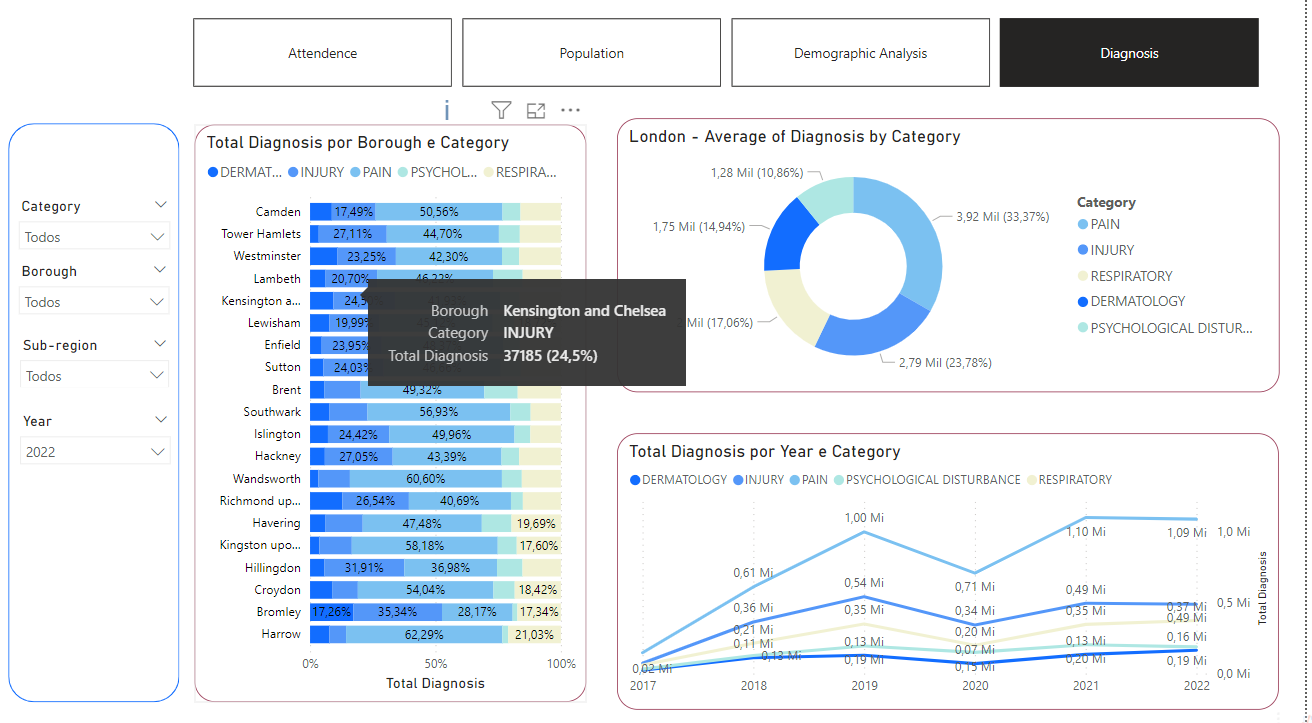

The page's visual inventory and layout, read from the dashboard file:
{"tool":"powerbi","page":{"name":"Diagnosis","canvas":[1280,720],"ordinal":3},"visuals":[{"type":"shape","box":[11.3,133.8,167.5,566.2],"z":0,"group":"g1"},{"type":"group","id":"g1","title":"Grupo 1","box":[11.2,133.8,168.2,566.2],"z":0},{"type":"slicer","fields":{"Values":["d_date.Date.Variation.Date Hierarchy.Year"]},"box":[12.2,411.2,167.3,57.5],"z":500},{"type":"hundredPercentStackedBarChart","fields":{"Category":["d_hospitals.Borough"],"Y":["Measure.Total Diagnosis"],"Series":["d_diagnosis.SubCategory"]},"box":[193.4,134.2,383.3,564.5],"z":1000},{"type":"slicer","fields":{"Values":["d_diagnosis.SubCategory"]},"box":[11.2,201.5,168.2,67.7],"z":2000,"group":"g1"},{"type":"slicer","fields":{"Values":["d_area.Sub-region"]},"box":[12.5,336.2,166.2,55],"z":2000},{"type":"slicer","fields":{"Values":["d_hospitals.Borough"]},"box":[11,263.5,167.4,72.7],"z":3000},{"type":"pageNavigator","box":[192.5,30,1043.8,67.5],"z":7000},{"type":"lineChart","fields":{"Category":["d_date.Year"],"Y2":["Measure.Total Diagnosis"],"Series":["d_diagnosis.SubCategory"]},"box":[606.1,436.5,647.5,270],"z":7001},{"type":"donutChart","title":"London - Average of Diagnosis by Category","fields":{"Category":["d_diagnosis.SubCategory"],"Y":["Measure.Average of Diagnosis"]},"box":[606.3,128.9,648.1,268.3],"z":7002}]}

Visuals, with their boxes in screenshot pixels (x1, y1, x2, y2), scaled from the page's 1280x720 canvas onto the 1312x723 screenshot:
shape: x1=12 y1=134 x2=183 y2=703
"Grupo 1" group: x1=11 y1=134 x2=184 y2=703
slicer - d_date.Date.Variation.Date Hierarchy.Year: x1=13 y1=413 x2=184 y2=471
hundredPercentStackedBarChart - d_hospitals.Borough x Measure.Total Diagnosis: x1=198 y1=135 x2=591 y2=702
slicer - d_diagnosis.SubCategory: x1=11 y1=202 x2=184 y2=270
slicer - d_area.Sub-region: x1=13 y1=338 x2=183 y2=393
slicer - d_hospitals.Borough: x1=11 y1=265 x2=183 y2=338
pageNavigator: x1=197 y1=30 x2=1267 y2=98
lineChart - d_date.Year x Measure.Total Diagnosis: x1=621 y1=438 x2=1285 y2=709
"London - Average of Diagnosis by Category" donutChart: x1=621 y1=129 x2=1286 y2=399
